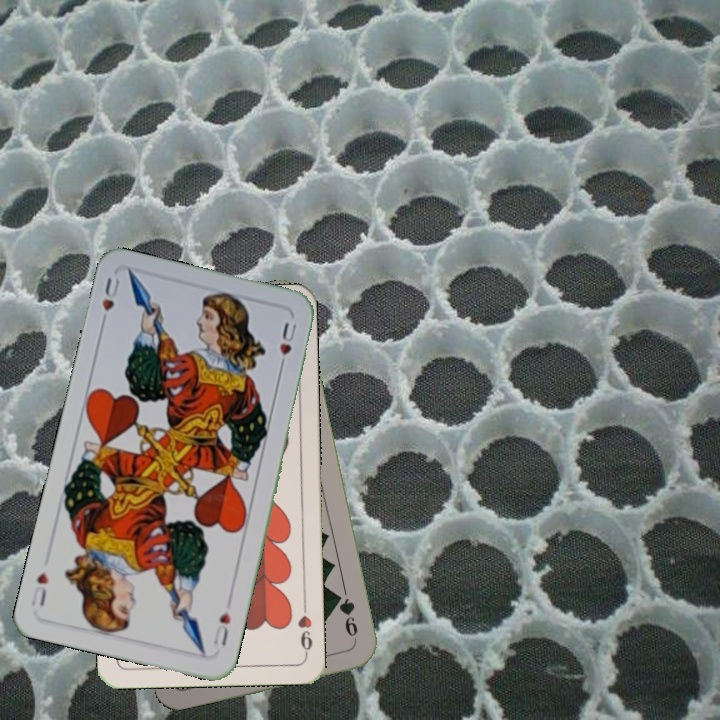G9: (331, 589, 361, 646)
H9: (294, 599, 315, 658)
HU: (96, 272, 122, 330), (209, 607, 234, 649)
